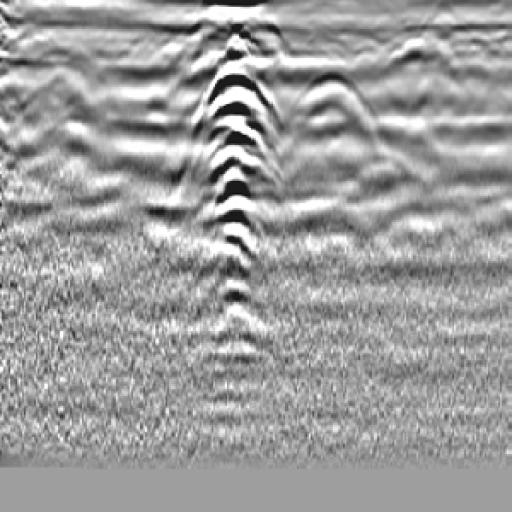metalic: (198, 25, 278, 343)
nonmetalic: (287, 72, 390, 188)
